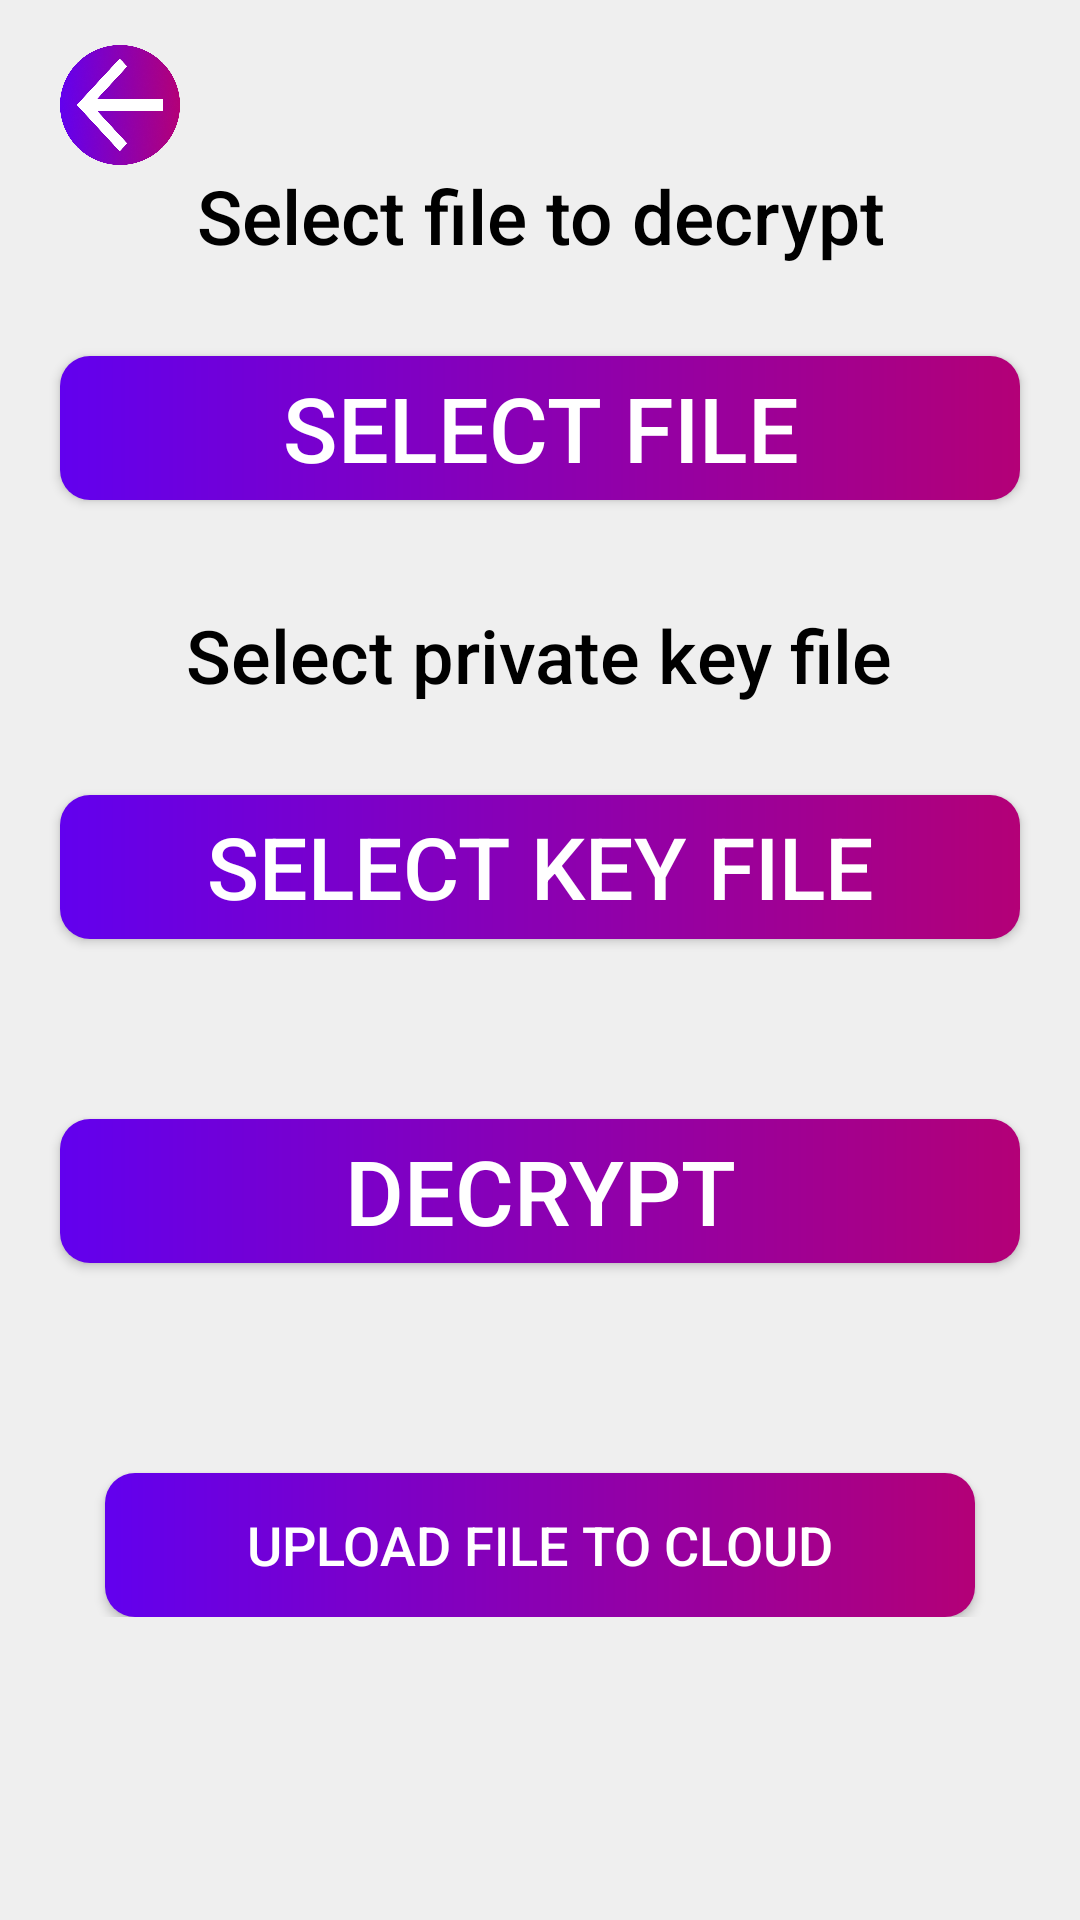

Screen size 1080 × 1920. Icon name, then its box in pixels as (x1, y1, x2, y2):
back: (60, 45, 180, 165)
